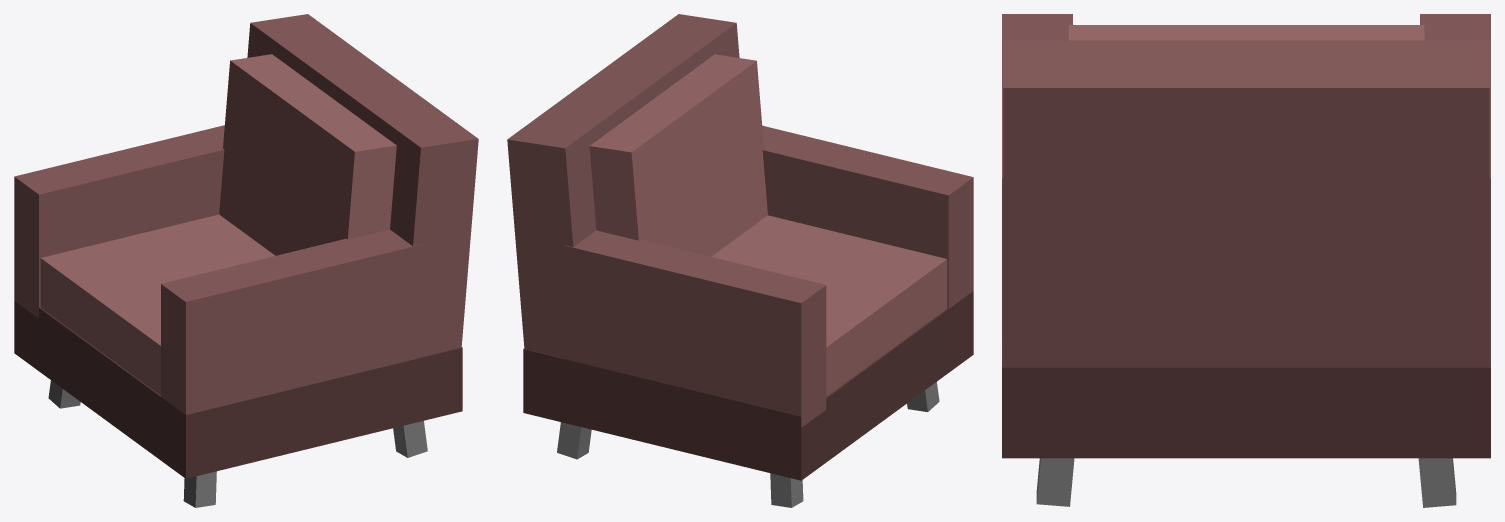
Rendered from vegas-chair-8.glb.
3 renders of one model, left to right at view 1: azimuth 30°, elevation 25°; view 2: azimuth 150°, elevation 25°; view 3: azimuth 270°, elevation 25°, orthographic. The views are drawn at different scales.
Visible parts, largest first — view 1: Roblox reference geometry; view 2: Roblox reference geometry; view 3: Roblox reference geometry.
Boxes of the visible parts, bbox=[...] form: Roblox reference geometry: bbox=[14, 14, 478, 507]; Roblox reference geometry: bbox=[507, 14, 973, 507]; Roblox reference geometry: bbox=[1002, 14, 1490, 507].
Bounding box in the file's own units: 4.13 × 4.31 × 4.18.
